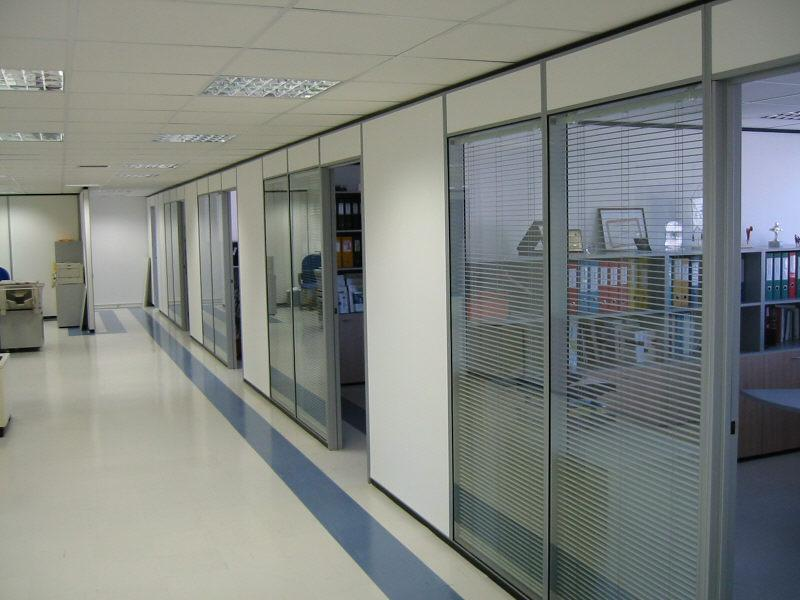Ventana: (452, 137, 718, 597), (265, 179, 340, 443), (196, 196, 234, 363)
